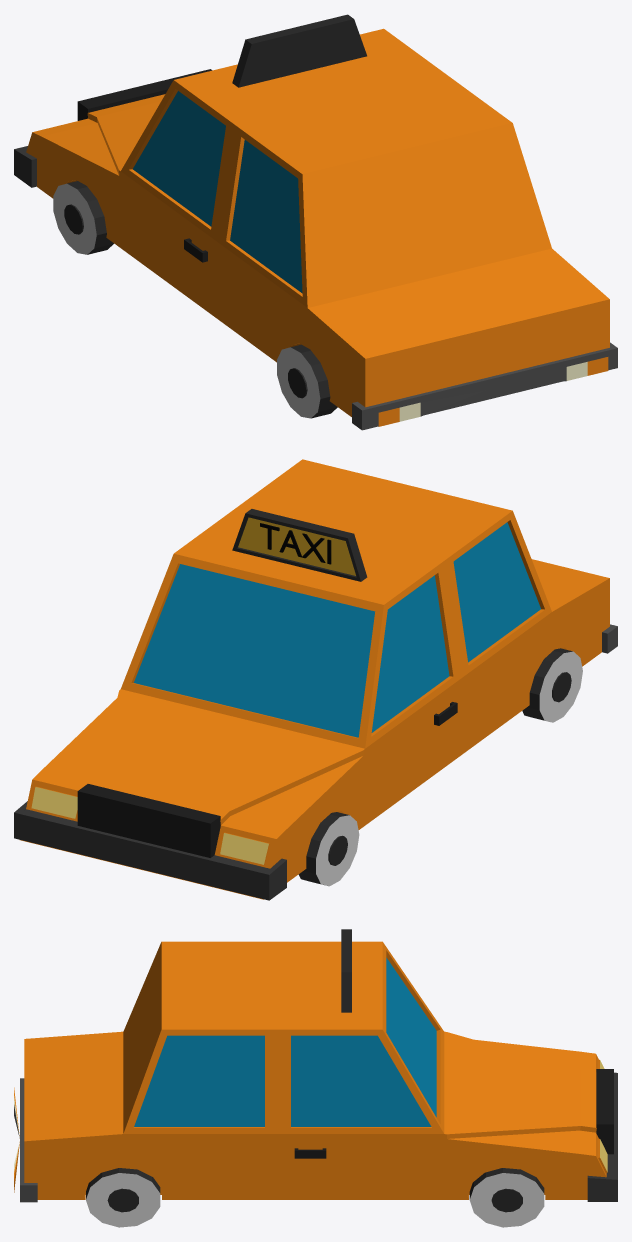
Rendered from car_4.gltf.
The picture shows the model from 3 angles, top to bottom: view 1: azimuth 30°, elevation 25°; view 2: azimuth 150°, elevation 25°; view 3: azimuth 270°, elevation 25°; orthographic projection. The views are drawn at different scales.
Visible parts, largest first — view 1: Taxi.001_Multicolor_0; view 2: Taxi.001_Multicolor_0; view 3: Taxi.001_Multicolor_0.
Part boxes in pixels (x1,y1,x2,y2): Taxi.001_Multicolor_0: [14, 14, 617, 430]; Taxi.001_Multicolor_0: [14, 459, 617, 900]; Taxi.001_Multicolor_0: [14, 929, 617, 1227].
Size of the model in its own units: 1.85 by 1.72 by 4.26.
1 material, 1 textured.
